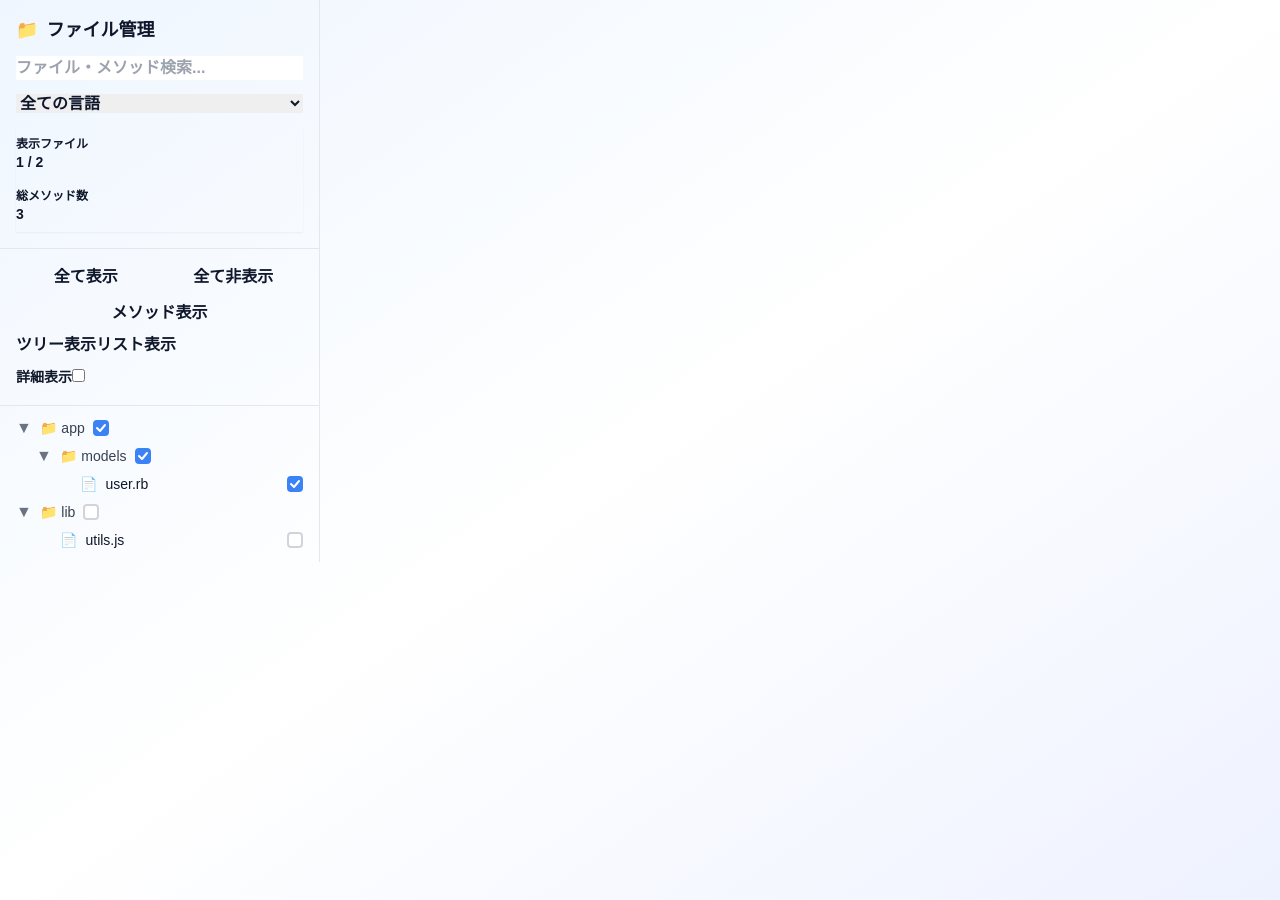
Test: Sidebar コンポーネント › ファイル検索機能が動作する
The width and height of the screenshot is (1280, 900).
Type "user" into the field with placeholder "ファイル・メソッド検索...".
click(160, 68); type("user")  # box x1=16 y1=56 x2=303 y2=80
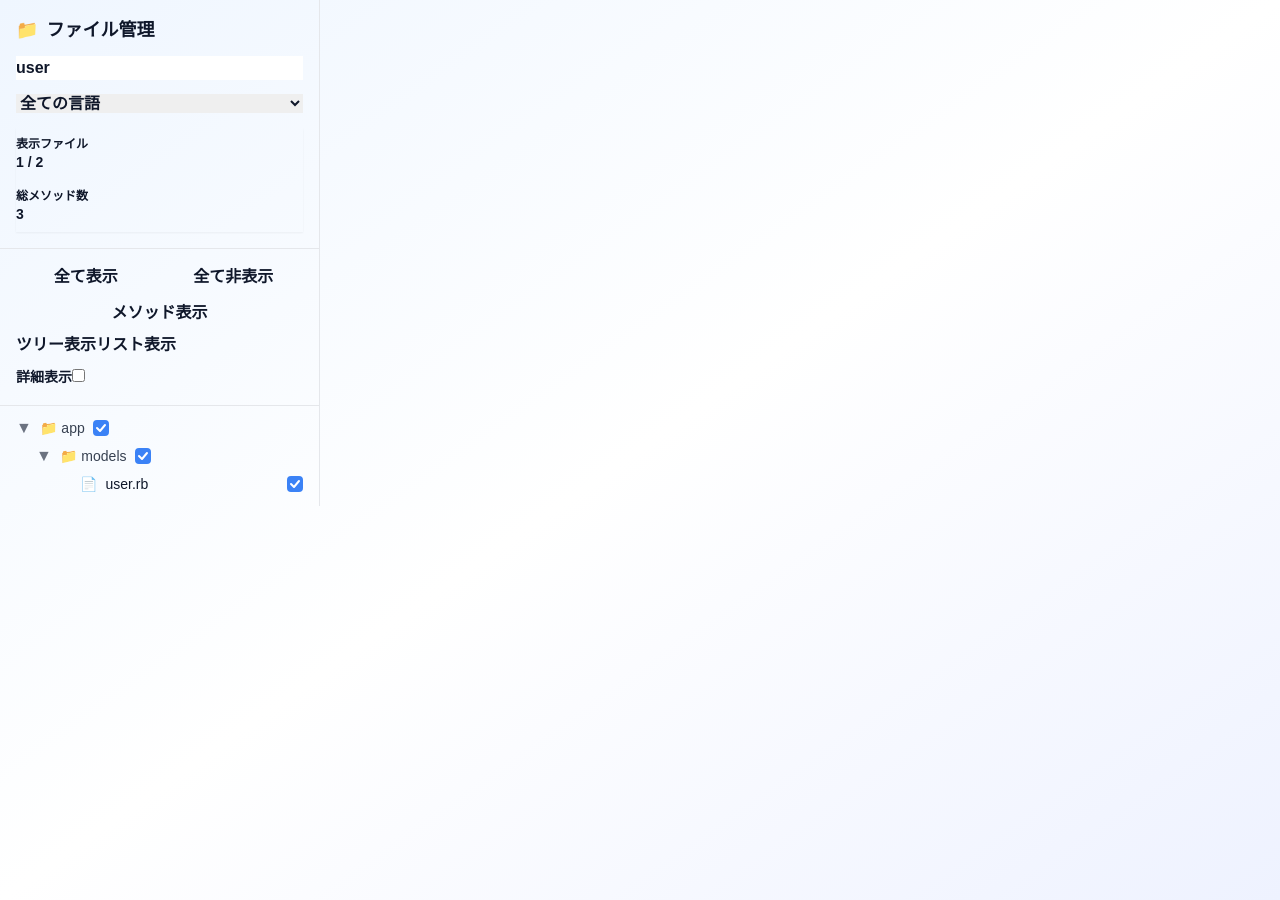
Expected: the text "user.rb" is shown, x1=106 y1=474 x2=148 y2=494
Result: the text "utils.js" is gone
